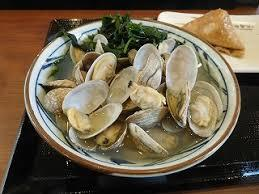asari: (19, 11, 249, 190)
